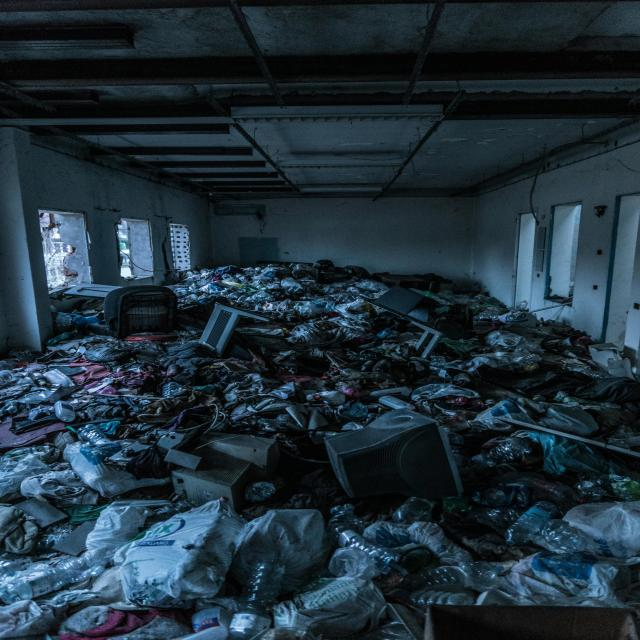metal: (334, 420, 466, 503), (178, 437, 274, 497)
plastic: (334, 534, 462, 596)
trash: (42, 352, 220, 417)
